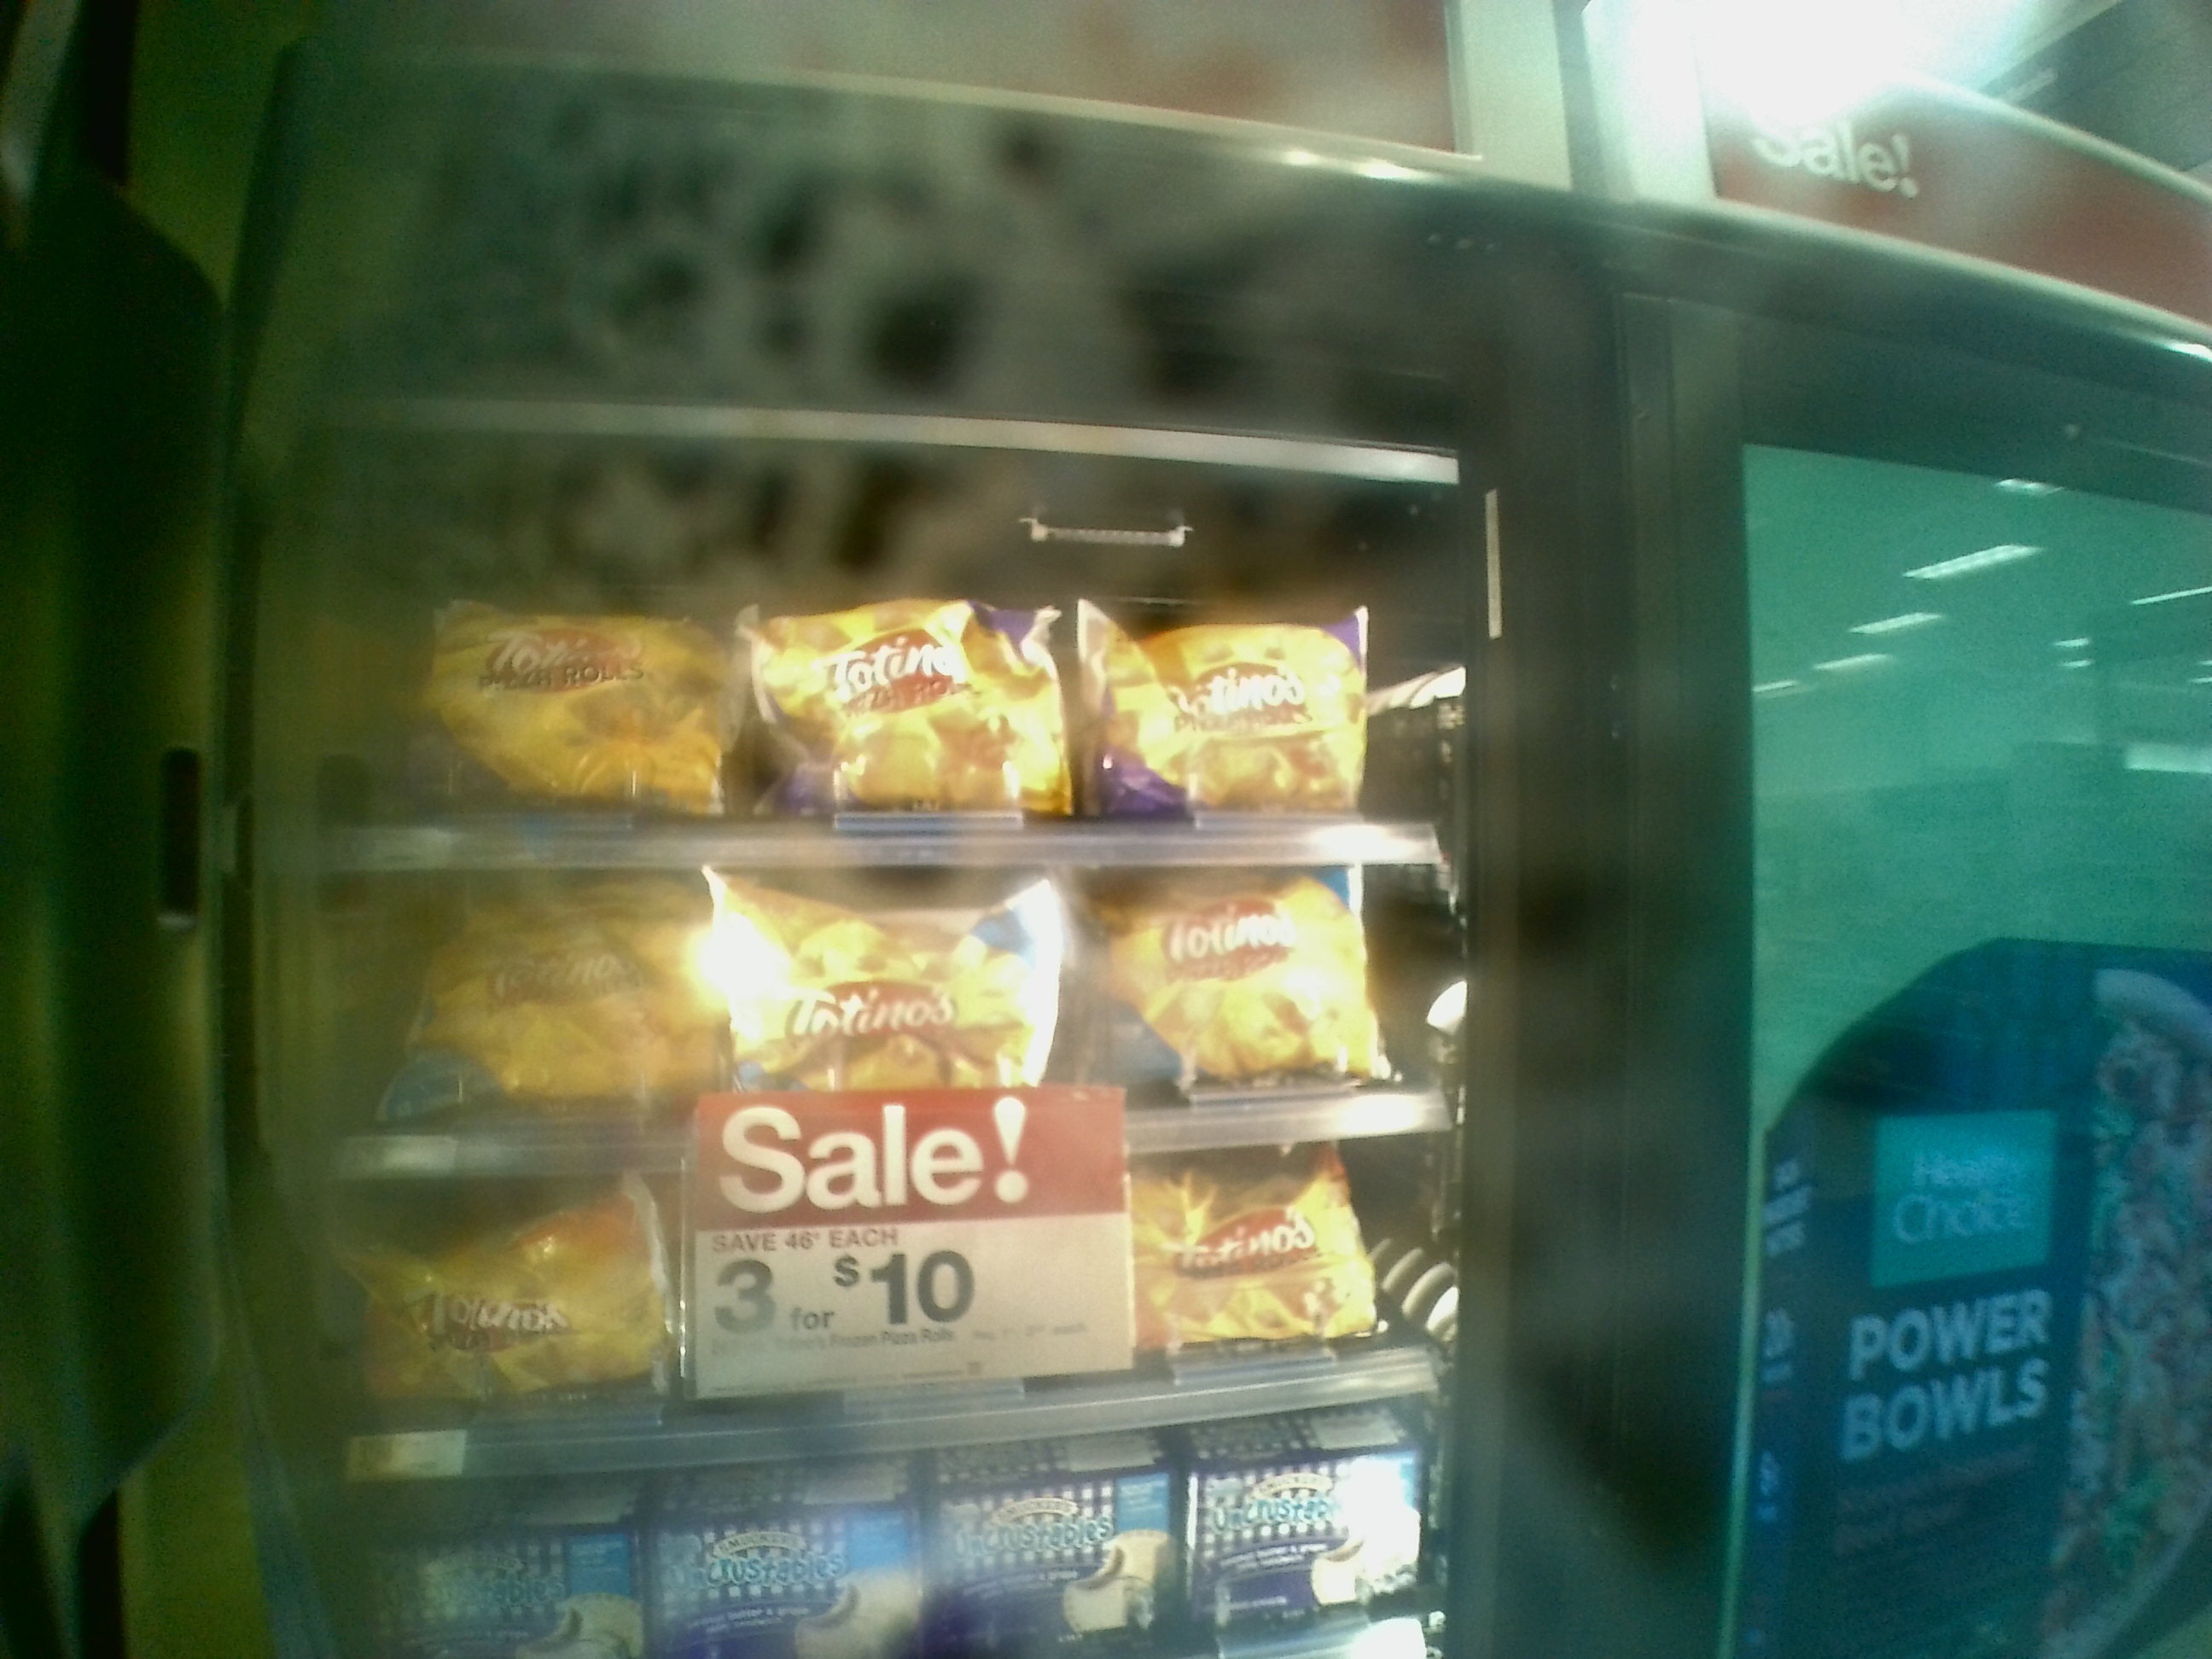shelf: (279, 444, 1433, 850), (294, 849, 1442, 1150), (279, 1129, 1432, 1399)
